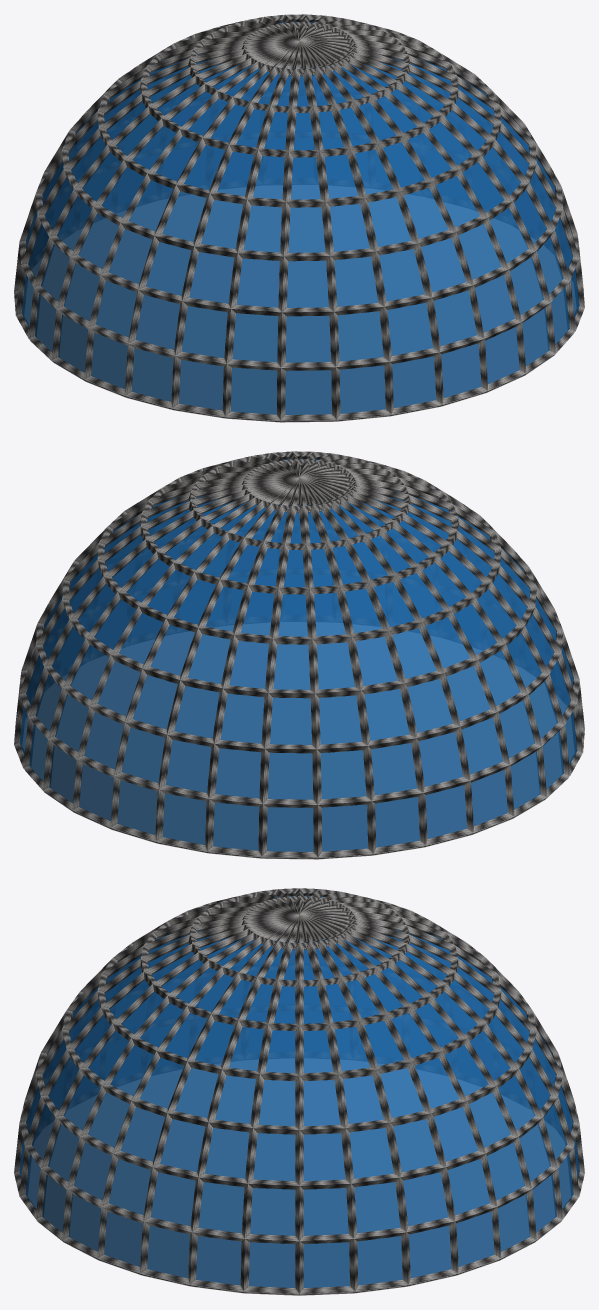
File: domo.obj
3 renders of one model, top to bottom at view 1: azimuth 30°, elevation 25°; view 2: azimuth 150°, elevation 25°; view 3: azimuth 270°, elevation 25°, orthographic.
Parts seen in each view (by area): view 1: Sphere; view 2: Sphere; view 3: Sphere.
Boxes of the visible parts, x1,y1,x2,y2 form: Sphere: (14, 14, 584, 422); Sphere: (14, 451, 584, 859); Sphere: (14, 888, 584, 1295).
Size of the model in its own units: 7.49 by 3.79 by 7.49.
Materials: 2 (1 with a texture image).
